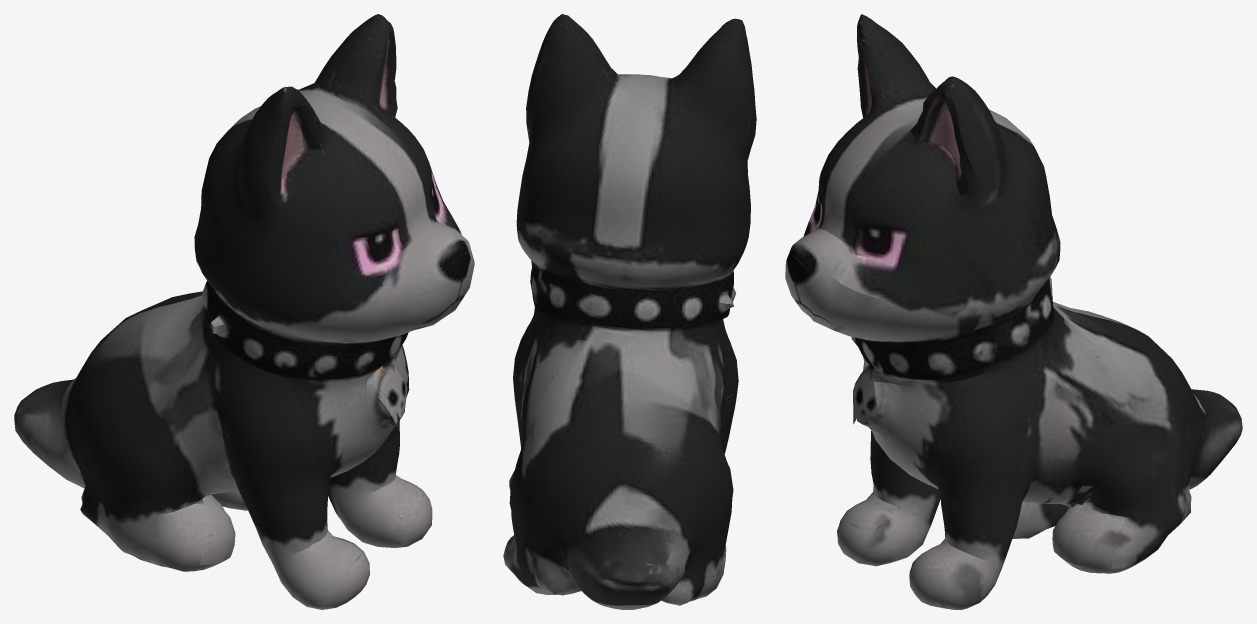
Rendered from punk_dog.glb.
3 renders of one model, left to right at view 1: azimuth 30°, elevation 25°; view 2: azimuth 150°, elevation 25°; view 3: azimuth 270°, elevation 25°, orthographic. The views are drawn at different scales.
Parts seen in each view (by area): view 1: Dog; view 2: Dog; view 3: Dog.
Boxes of the visible parts, x1,y1,x2,y2 form: Dog: (14, 14, 474, 609); Dog: (503, 14, 756, 609); Dog: (785, 14, 1242, 609).
Size of the model in its own units: 0.3204 by 0.5661 by 0.4466.
Materials: 1 (1 with a texture image).
